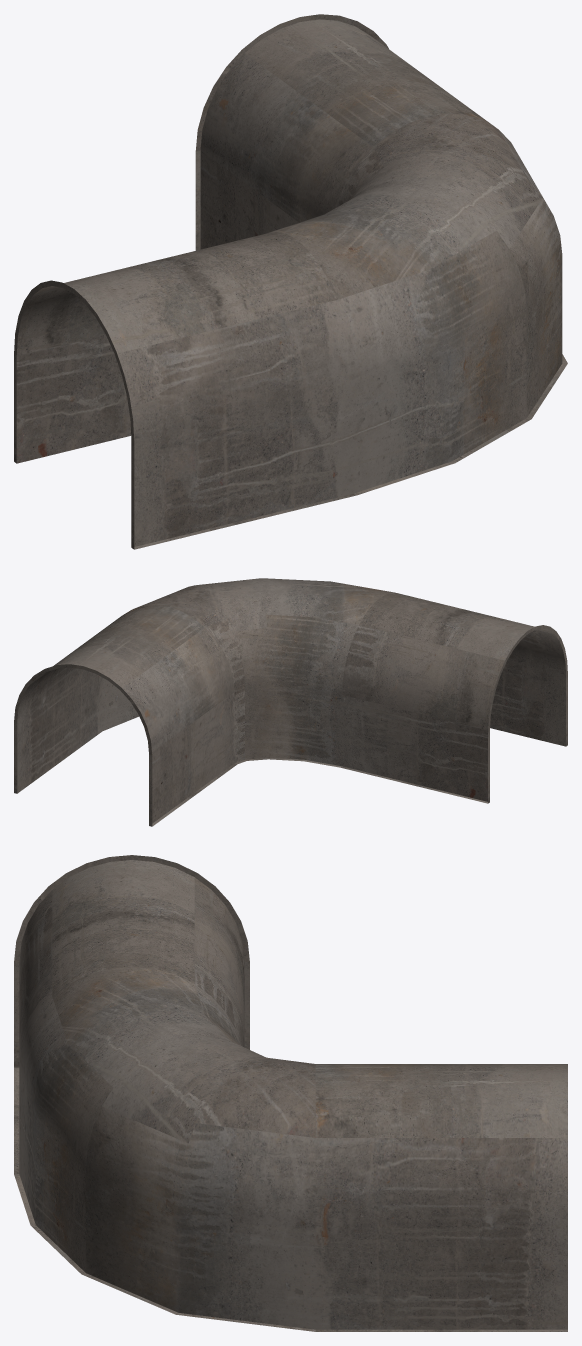
File: ArchCorner.fbx
3 renders of one model, top to bottom at view 1: azimuth 30°, elevation 25°; view 2: azimuth 150°, elevation 25°; view 3: azimuth 270°, elevation 25°, orthographic. The views are drawn at different scales.
Visible parts, largest first — view 1: ArcCorner; view 2: ArcCorner; view 3: ArcCorner.
Boxes of the visible parts, box(x1,y1,x2,y2) form: ArcCorner: box(14, 14, 567, 549); ArcCorner: box(14, 578, 567, 826); ArcCorner: box(14, 855, 567, 1331).
Bounding box in the file's own units: 998 × 374 × 884.
1 material, 1 textured.
